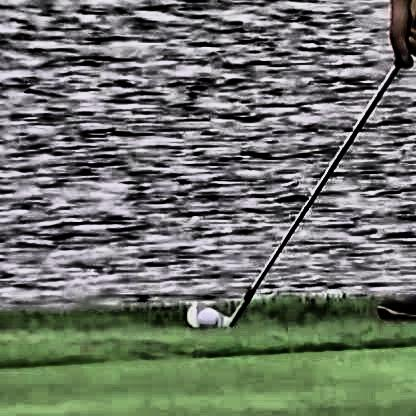golfball: (192, 308, 222, 330)
